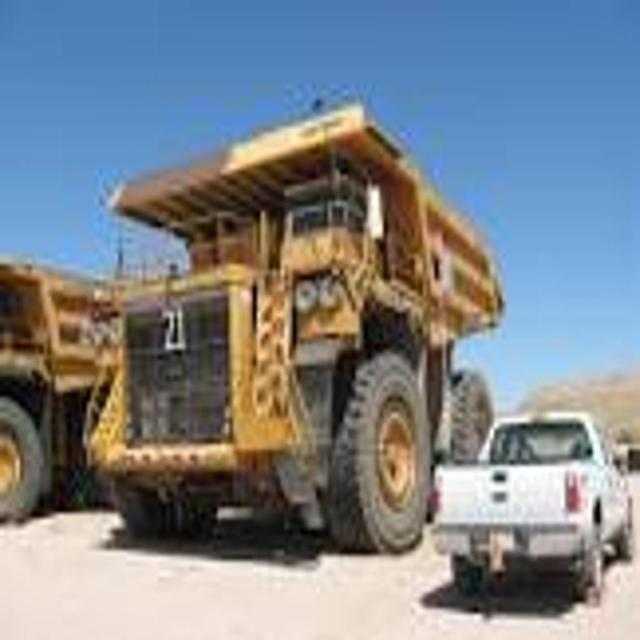dump_truck: (100, 92, 501, 548)
